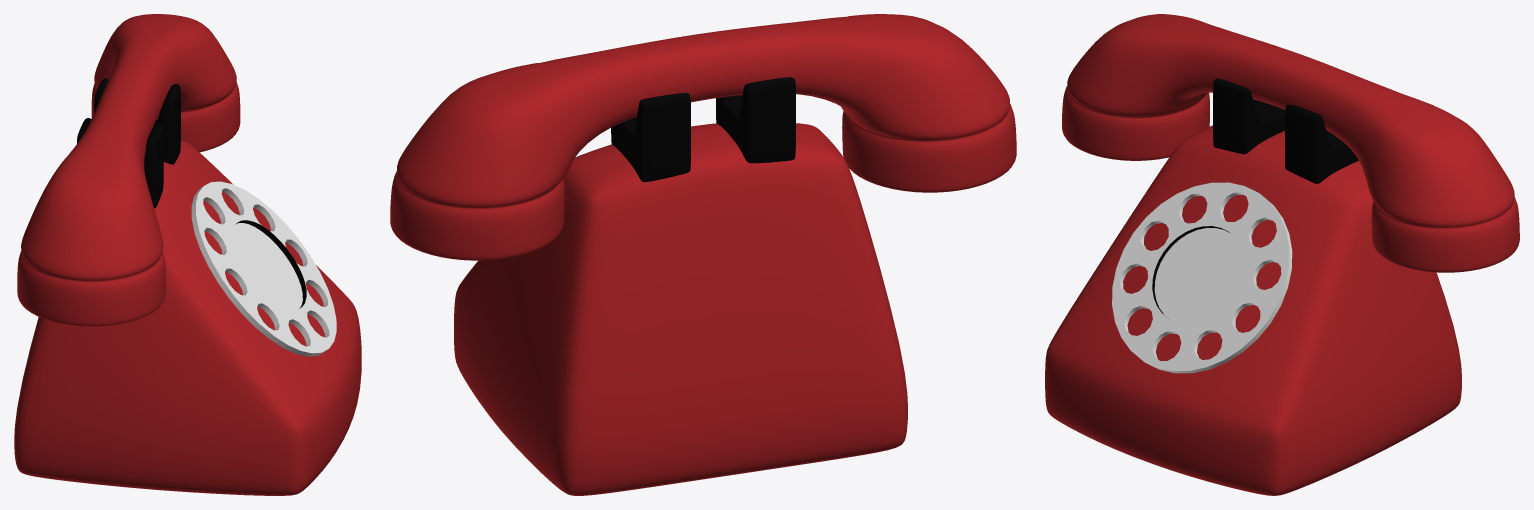
File: red_telephone_1.glb
3 renders of one model, left to right at view 1: azimuth 30°, elevation 25°; view 2: azimuth 150°, elevation 25°; view 3: azimuth 270°, elevation 25°, orthographic. The views are drawn at different scales.
Visible parts, largest first — view 1: Plane.040, Circle.016, Circle.017, Plane.041, Circle.018; view 2: Plane.040, Circle.016, Plane.041; view 3: Plane.040, Circle.016, Circle.017, Plane.041.
Part boxes in pixels (x1,y1,x2,y2): Plane.040: (14, 140, 361, 495); Circle.016: (17, 14, 240, 326); Circle.017: (191, 181, 336, 356); Plane.041: (77, 78, 180, 208); Circle.018: (235, 220, 306, 308); Plane.040: (454, 123, 907, 495); Circle.016: (390, 14, 1016, 260); Plane.041: (611, 77, 795, 182); Plane.040: (1045, 125, 1461, 495); Circle.016: (1062, 14, 1519, 272); Circle.017: (1112, 182, 1292, 373); Plane.041: (1213, 78, 1358, 183).
Bounding box in the file's own units: 0.7303 × 0.6017 × 0.7579.
